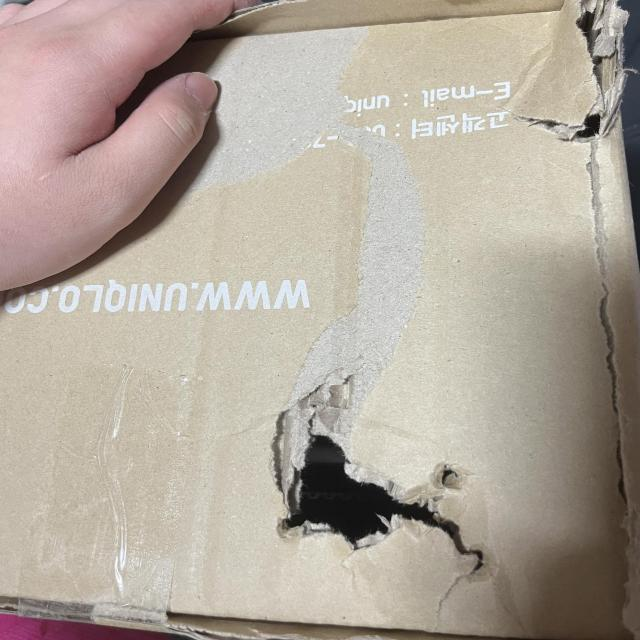damaged: (259, 416, 491, 566)
